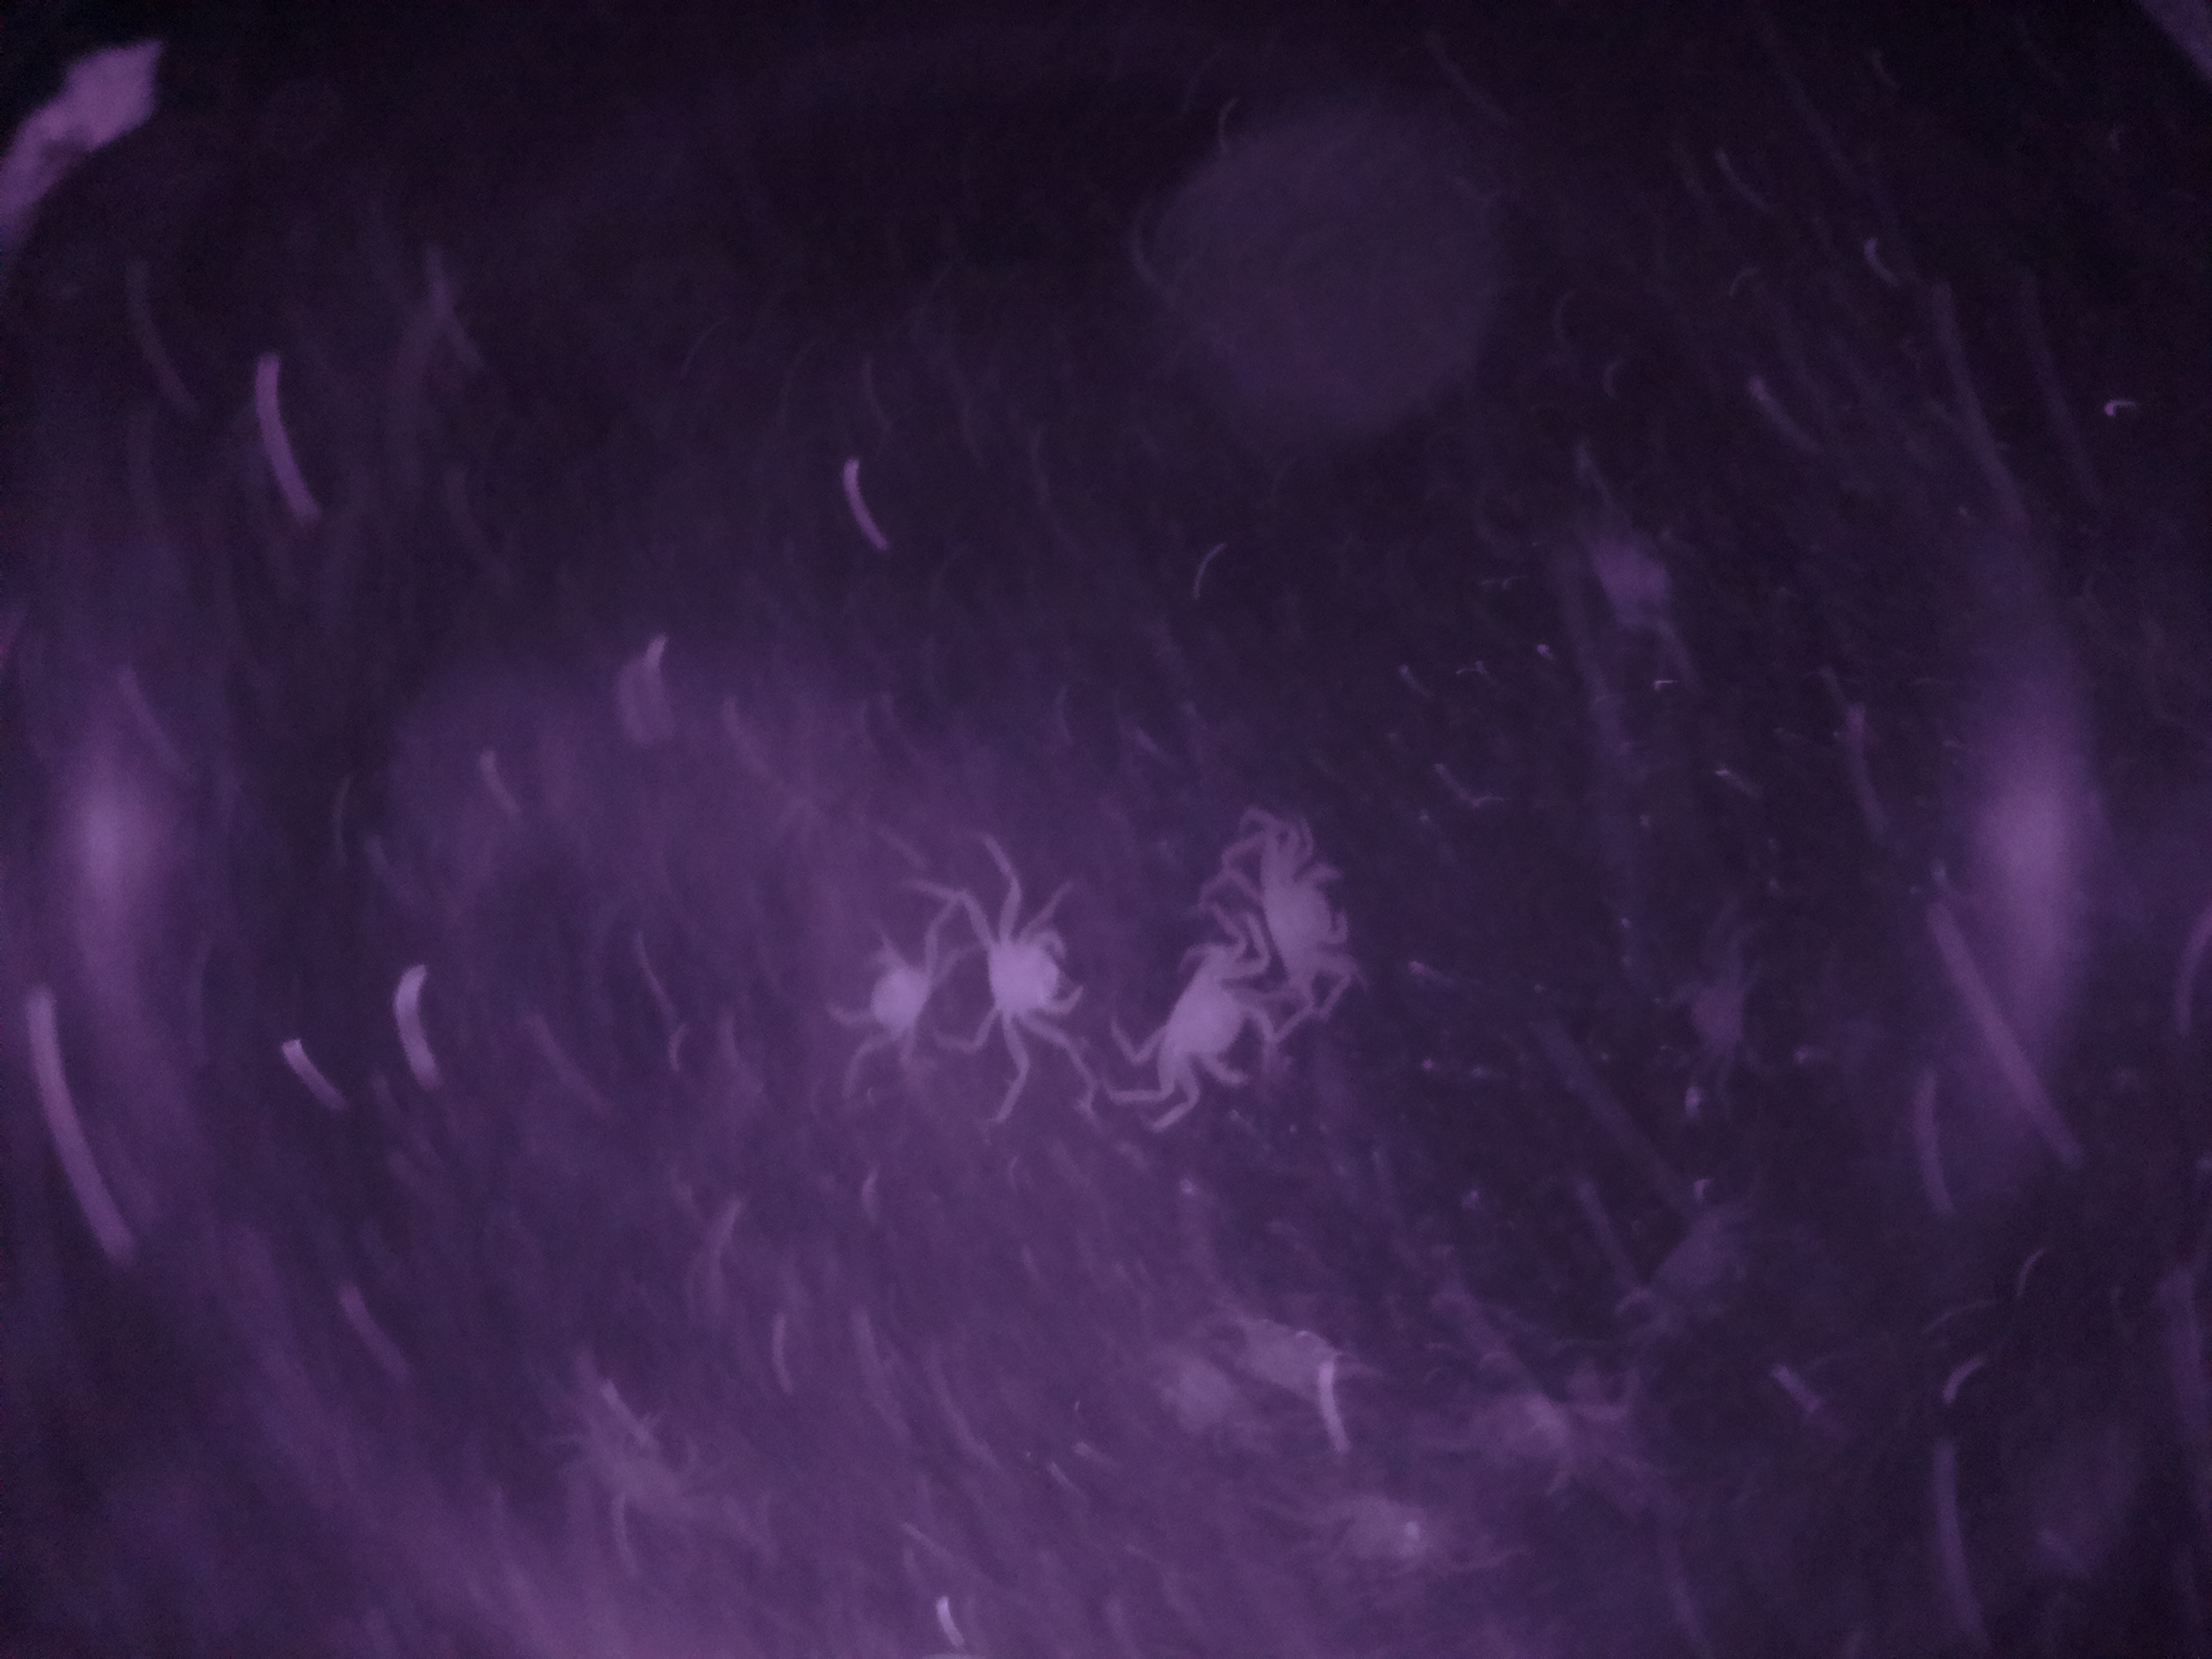Crab: (956, 889, 1122, 1044), (1144, 939, 1278, 1115)
